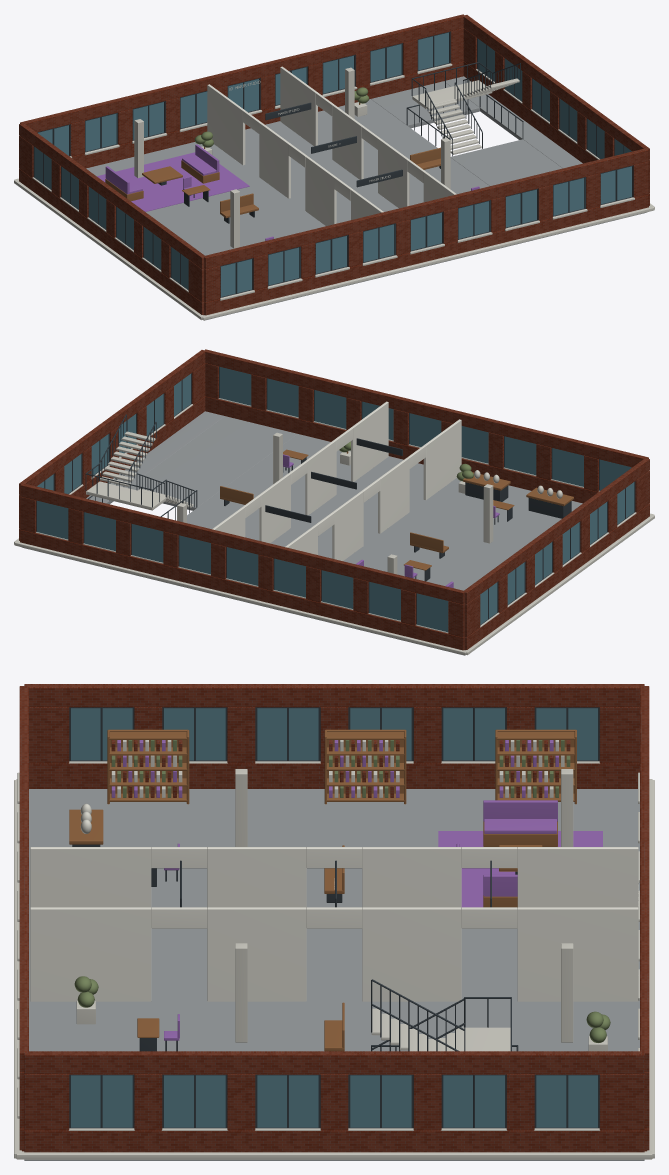
The model's file is SM_LegacyTower_Level02.fbx.
3 views of the same model, one above another, from view 1: azimuth 30°, elevation 25°; view 2: azimuth 150°, elevation 25°; view 3: azimuth 270°, elevation 25° (orthographic). The views are drawn at different scales.
Parts seen in each view (by area): view 1: SM_LegacyTower_Level02; view 2: SM_LegacyTower_Level02; view 3: SM_LegacyTower_Level02.
Part boxes in pixels (left/top/right/bottom): SM_LegacyTower_Level02: left=14, top=14, right=654, bottom=320; SM_LegacyTower_Level02: left=14, top=349, right=654, bottom=655; SM_LegacyTower_Level02: left=14, top=684, right=654, bottom=1160.
Size of what is drawn, in the model's own units: 2866 by 2066 by 486.
